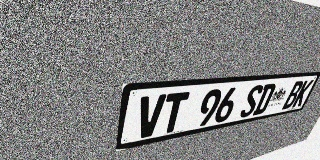6: (213, 87, 240, 124)
9: (195, 88, 224, 127)
B: (281, 81, 305, 110)
D: (252, 83, 277, 116)
K: (291, 80, 314, 108)
S: (238, 84, 265, 118)
T: (159, 92, 190, 134)
V: (135, 94, 167, 139)
